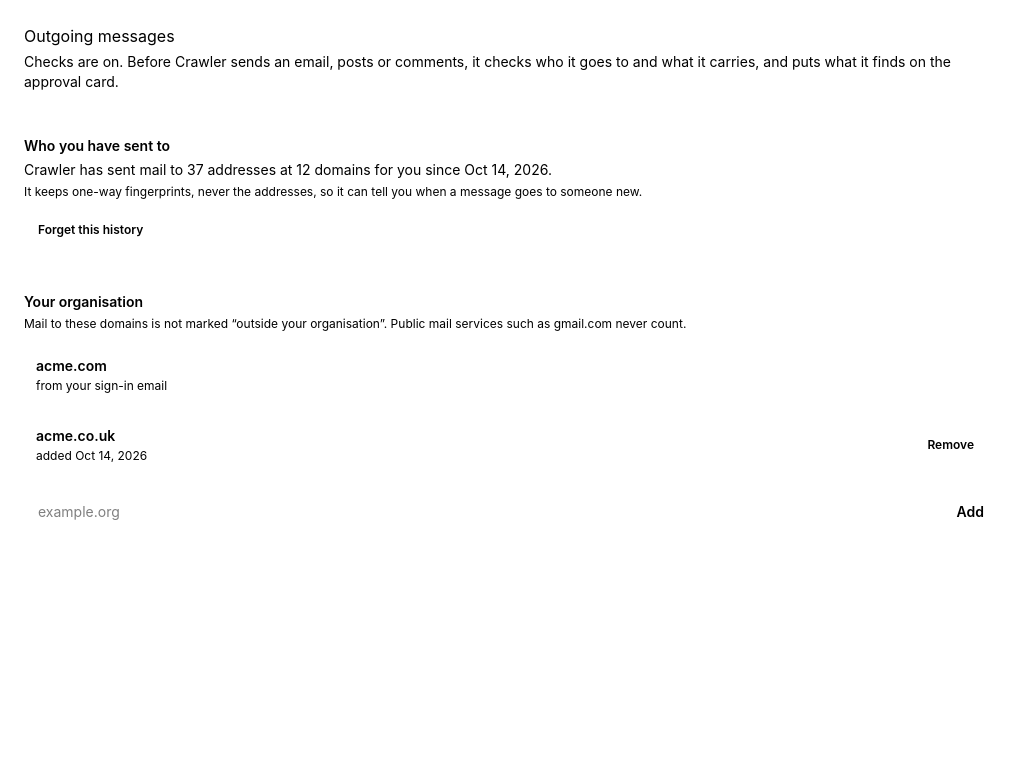
Scenario: OutgoingMessagesTab › the server's reason for refusing a domain is shown beside the form
Type "gmail.com" into the field named "Domain to add" at (478, 512), box top-left (24, 492), bottom-right (932, 532)
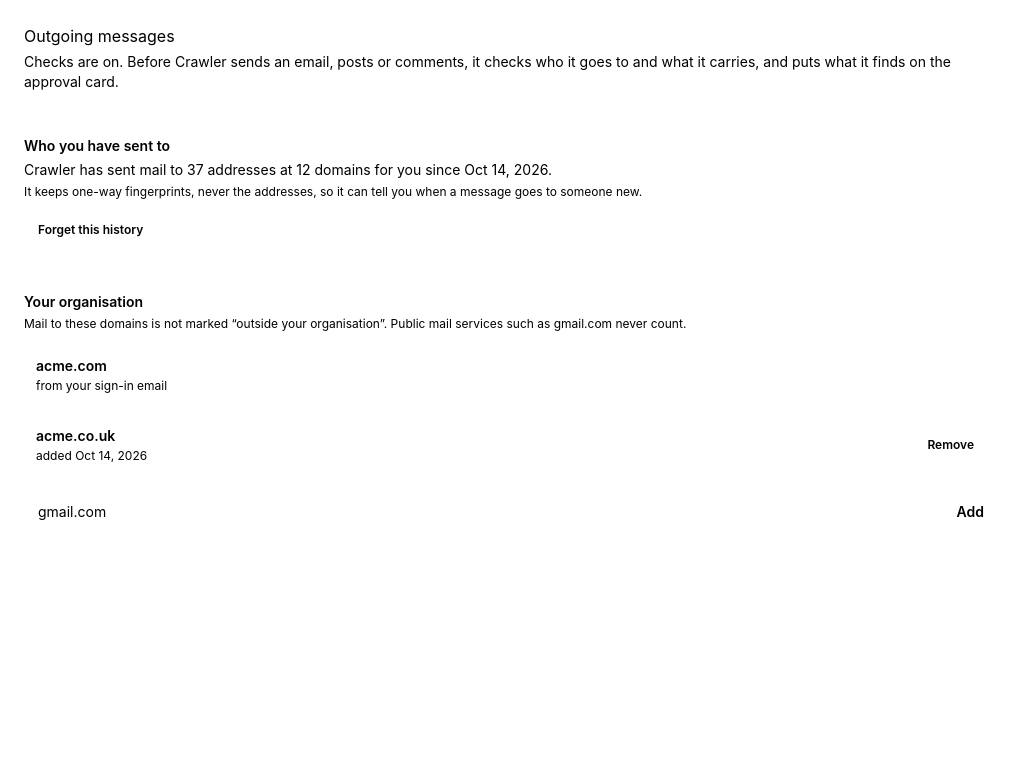
Click the button "Add" at (970, 512), box top-left (940, 492), bottom-right (1000, 532)
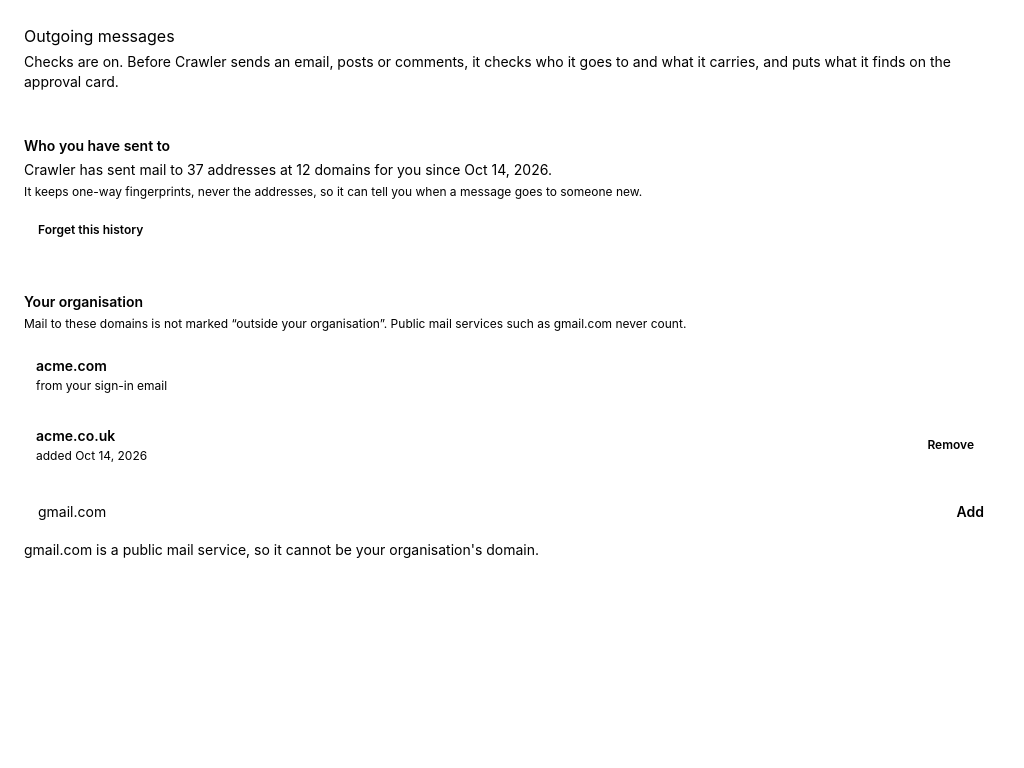
Now the message reads "gmail.com is a public mail service, so it cannot be your organisation's domain.", box top-left (24, 541), bottom-right (539, 558)
